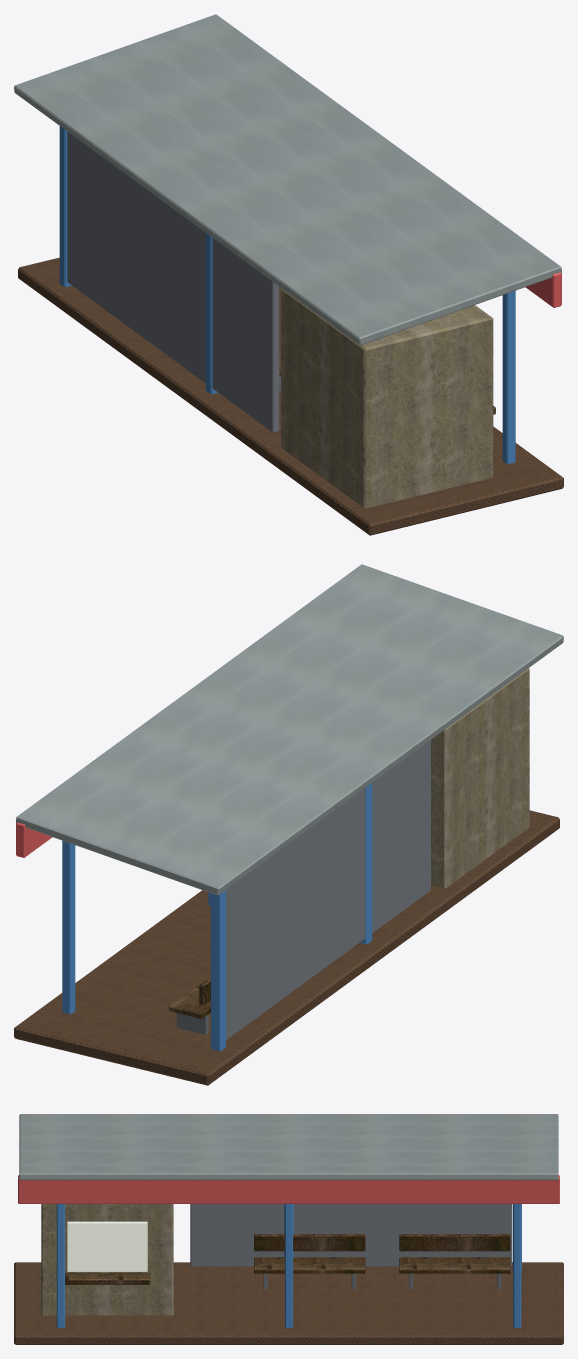
The model's file is Kenya_BusStage_Terminal.glb.
3 renders of one model, top to bottom at view 1: azimuth 30°, elevation 25°; view 2: azimuth 150°, elevation 25°; view 3: azimuth 270°, elevation 25°, orthographic. The views are drawn at different scales.
Visible parts, largest first — view 1: ShelterCanopy, BookingKiosk, WindbreakFrame, StagePlatform, FrontPost_-4.4, RearPost_4.4, RearPost_0.0, ShelterFascia; view 2: ShelterCanopy, WindbreakFrame, StagePlatform, BookingKiosk, FrontPost_4.4, RearPost_4.4, RearPost_0.0, BenchSeat_3.2, ShelterFascia; view 3: ShelterCanopy, StagePlatform, WindbreakFrame, ShelterFascia, BookingKiosk, KioskWindow, BenchBack_3.2, BenchSeat_3.2, BenchBack_0.4, BenchSeat_0.4, FrontPost_4.4, FrontPost_-4.4 (+2 smaller).
Boxes of the visible parts, x1=… form: ShelterCanopy: x1=14, y1=14, x2=561, y2=345; BookingKiosk: x1=281, y1=288, x2=493, y2=508; WindbreakFrame: x1=67, y1=131, x2=279, y2=432; StagePlatform: x1=18, y1=257, x2=563, y2=535; FrontPost_-4.4: x1=502, y1=290, x2=515, y2=464; RearPost_4.4: x1=59, y1=126, x2=71, y2=286; RearPost_0.0: x1=205, y1=233, x2=217, y2=393; ShelterFascia: x1=525, y1=272, x2=561, y2=307; ShelterCanopy: x1=16, y1=564, x2=563, y2=895; WindbreakFrame: x1=226, y1=740, x2=430, y2=1040; StagePlatform: x1=14, y1=810, x2=559, y2=1085; BookingKiosk: x1=431, y1=668, x2=529, y2=887; FrontPost_4.4: x1=62, y1=840, x2=75, y2=1014; RearPost_4.4: x1=211, y1=890, x2=225, y2=1051; RearPost_0.0: x1=360, y1=783, x2=372, y2=943; BenchSeat_3.2: x1=169, y1=976, x2=210, y2=1018; ShelterFascia: x1=16, y1=822, x2=52, y2=857; ShelterCanopy: x1=19, y1=1114, x2=558, y2=1180; StagePlatform: x1=14, y1=1262, x2=563, y2=1344; WindbreakFrame: x1=190, y1=1204, x2=511, y2=1266; ShelterFascia: x1=18, y1=1175, x2=559, y2=1203; BookingKiosk: x1=41, y1=1204, x2=173, y2=1315; KioskWindow: x1=67, y1=1221, x2=147, y2=1271; BenchBack_3.2: x1=399, y1=1234, x2=510, y2=1251; BenchSeat_3.2: x1=399, y1=1257, x2=510, y2=1273; BenchBack_0.4: x1=254, y1=1234, x2=365, y2=1251; BenchSeat_0.4: x1=254, y1=1257, x2=365, y2=1273; FrontPost_4.4: x1=513, y1=1204, x2=521, y2=1327; FrontPost_-4.4: x1=56, y1=1204, x2=64, y2=1327.
Size of the model in its own units: 3.54 by 3.65 by 10.6.
11 materials, 4 textured.
